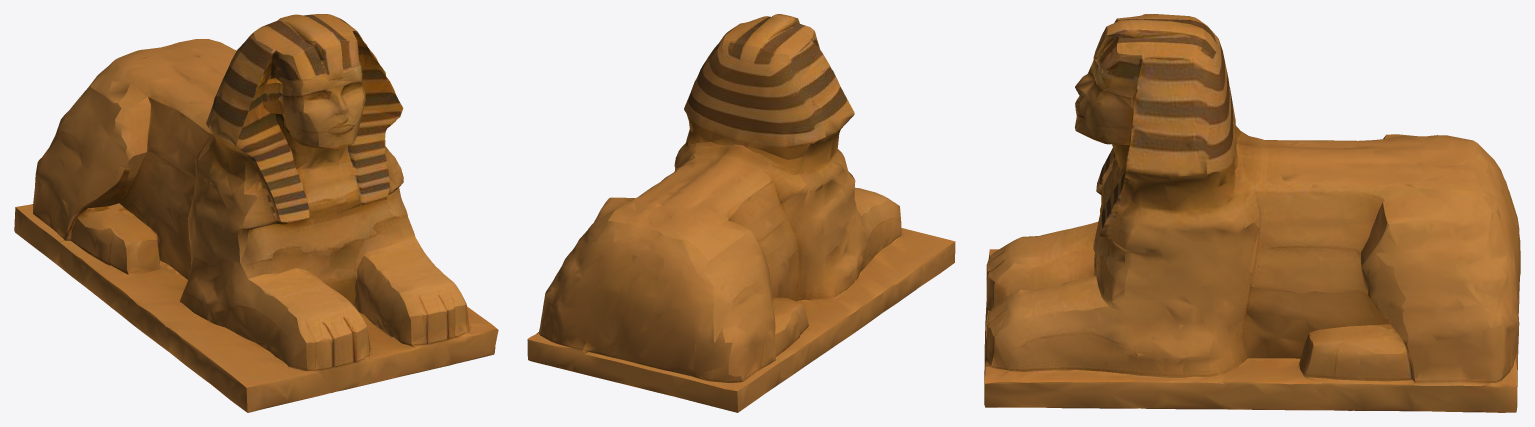
The model's file is great-sphinx-giza.glb.
3 views of the same model, side by side, from view 1: azimuth 30°, elevation 25°; view 2: azimuth 150°, elevation 25°; view 3: azimuth 270°, elevation 25° (orthographic). The views are drawn at different scales.
Visible parts, largest first — view 1: logan-textured.obj; view 2: logan-textured.obj; view 3: logan-textured.obj.
Boxes of the visible parts, left/top/right/bottom form: logan-textured.obj: left=14, top=14, right=498, bottom=412; logan-textured.obj: left=527, top=14, right=955, bottom=412; logan-textured.obj: left=984, top=14, right=1520, bottom=412.
Bounding box in the file's own units: 0.6061 × 0.6736 × 1.
1 material, 1 textured.
